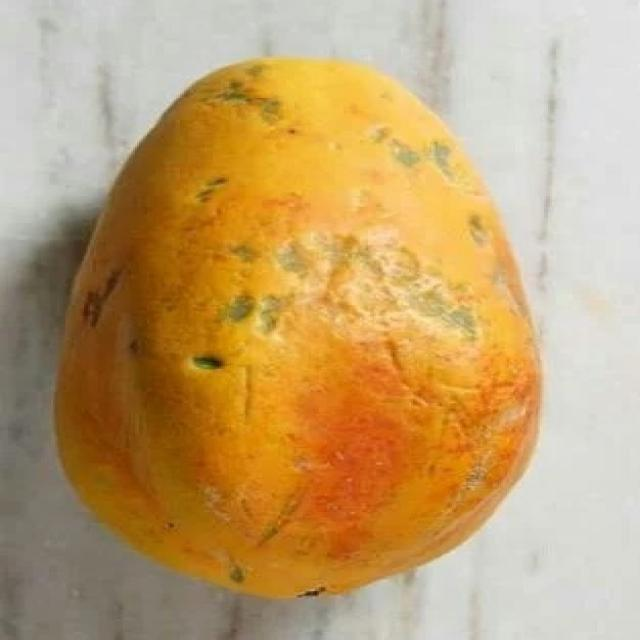Pepaya rippen: (55, 49, 552, 617)
